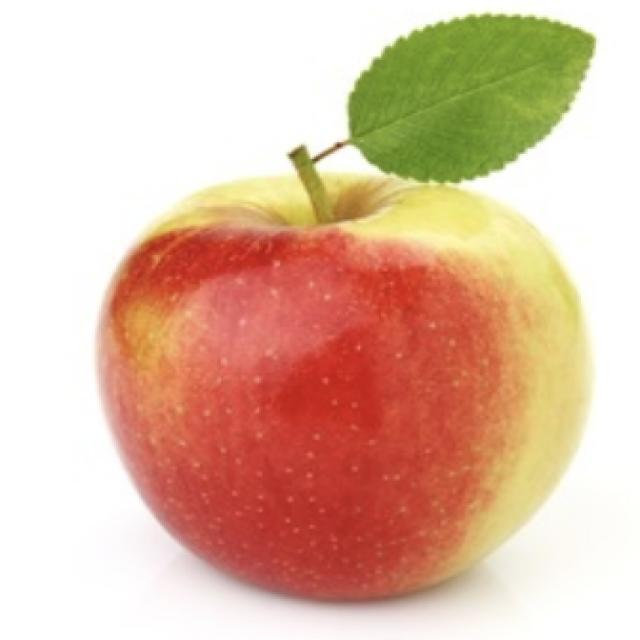Fresh Apple: (97, 170, 580, 595)
